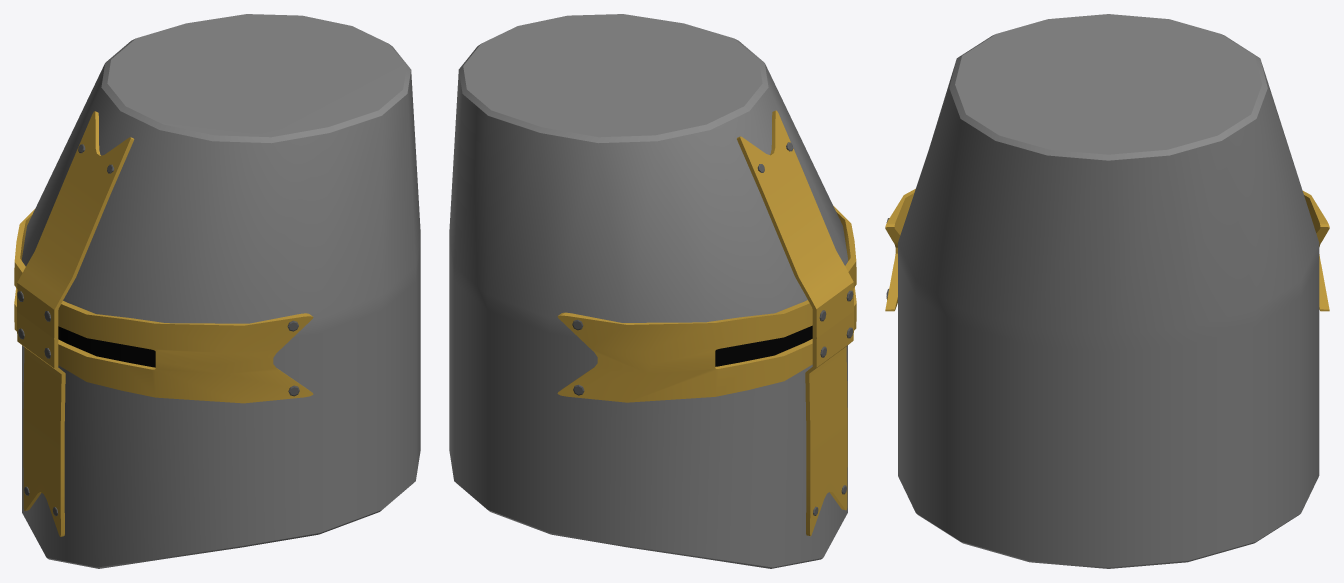
Rendered from Casco suelo.fbx.
The picture shows the model from 3 angles, left to right: view 1: azimuth 30°, elevation 25°; view 2: azimuth 150°, elevation 25°; view 3: azimuth 270°, elevation 25°; orthographic projection. The views are drawn at different scales.
Visible parts, largest first — view 1: Cylinder.001; view 2: Cylinder.001; view 3: Cylinder.001.
Boxes of the visible parts, <box> form: Cylinder.001: <box>14,14,420,568</box>; Cylinder.001: <box>449,14,856,568</box>; Cylinder.001: <box>885,14,1329,568</box>.
Bounding box in the file's own units: 59.76 × 68.22 × 58.43.
